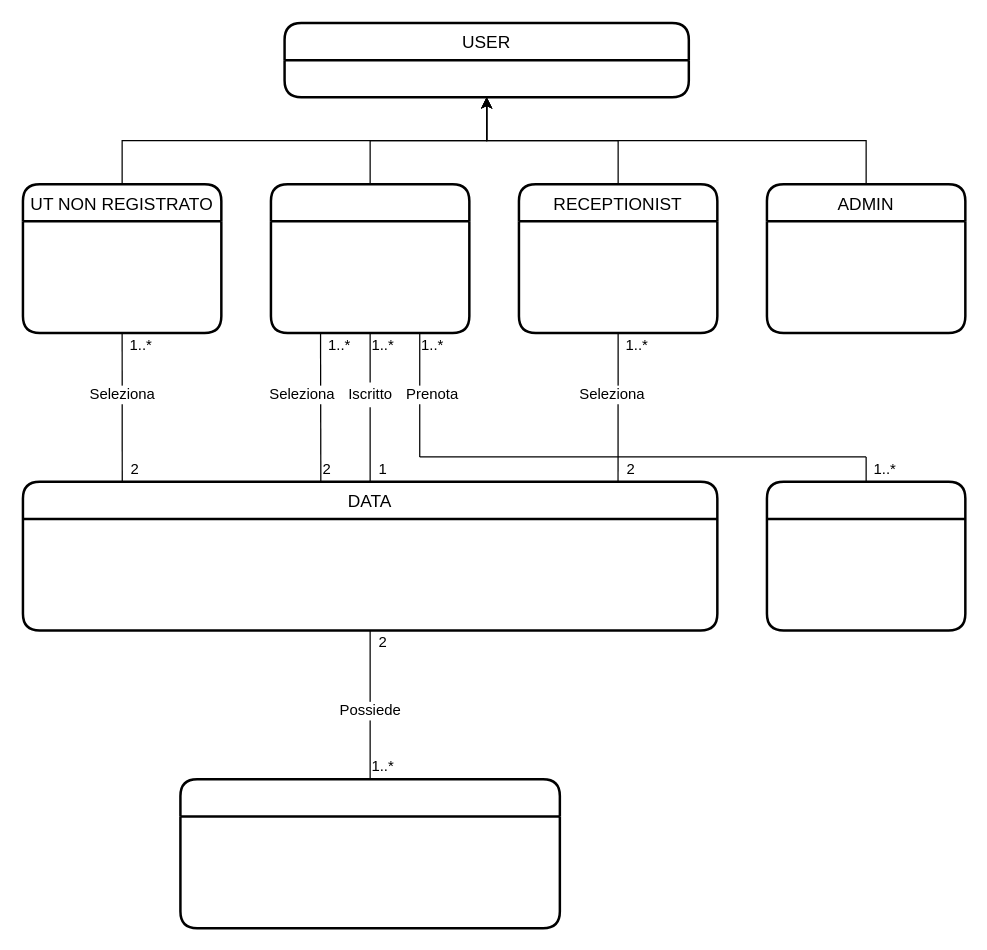
Some shapes in this 987 by 950 pixel diagram are drawn without their labels. Here are the shapes that lost their labels. From the top down, the centre of each, then its label:
At (369,258): "UTENTE REGISTRATO".
At (865,555): "ORDINE".
At (369,853): "CAMERA/ALLOGGIO".
